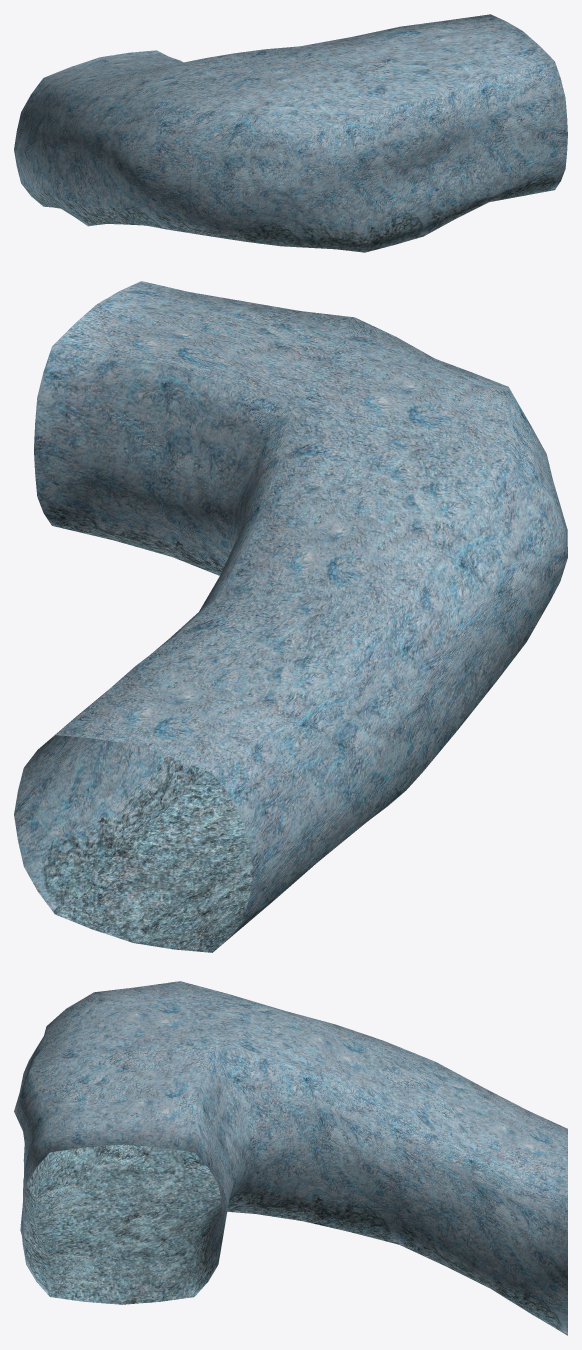
Rendered from thm_all_cave_flatland_s03_ice_r23_r23.fbx.
3 views of the same model, one above another, from view 1: azimuth 30°, elevation 25°; view 2: azimuth 150°, elevation 25°; view 3: azimuth 270°, elevation 25° (orthographic). The views are drawn at different scales.
Visible parts, largest first — view 1: mesh_node; view 2: mesh_node; view 3: mesh_node.
Part boxes in pixels (x1,y1,x2,y2): mesh_node: [14, 14, 567, 252]; mesh_node: [14, 281, 567, 952]; mesh_node: [14, 981, 567, 1335].
Size of the model in its own units: 21.23 by 14.67 by 24.86.
